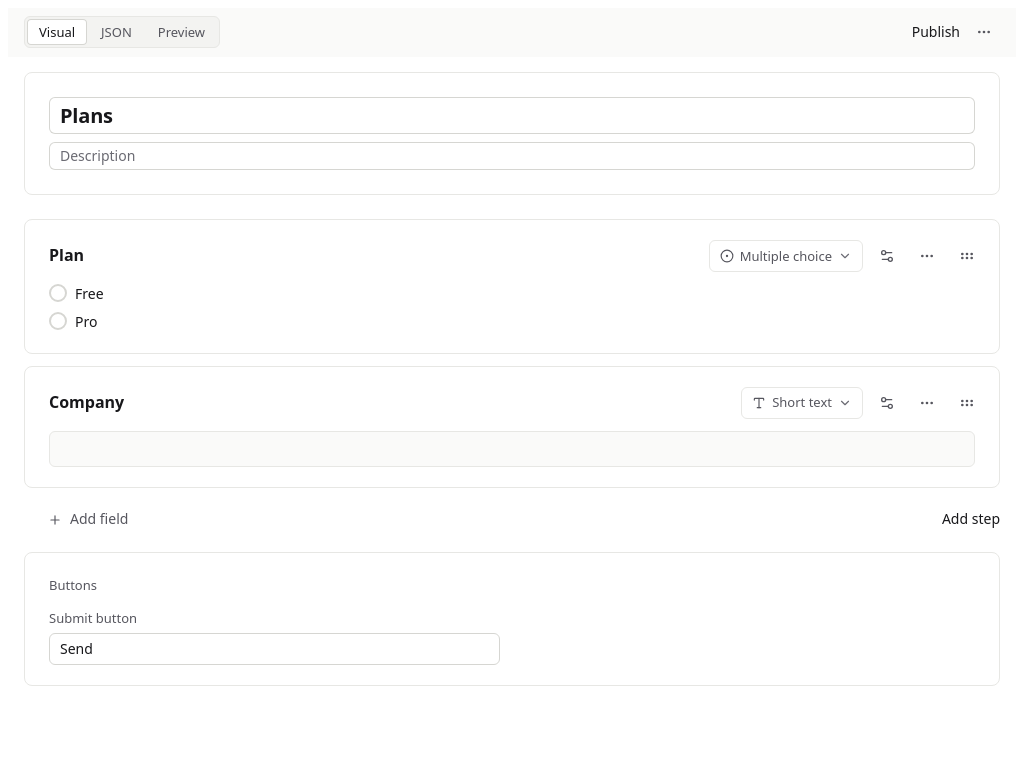
Scenario: field logic in a browser › shows a field only for some answers and labels the card
Click the 2nd button named "Field settings" at coordinates (887, 403), box [871,387,903,419]
(page scrolled)
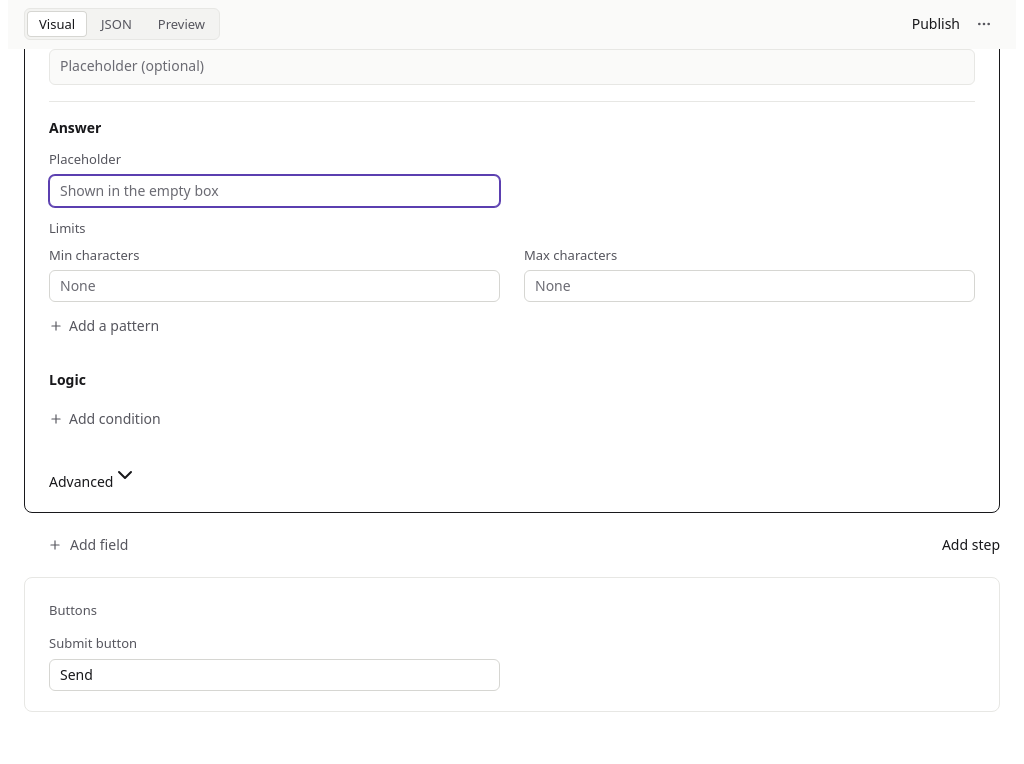
Click the button "Add condition" at coordinates (115, 418), box [37,403,975,435]
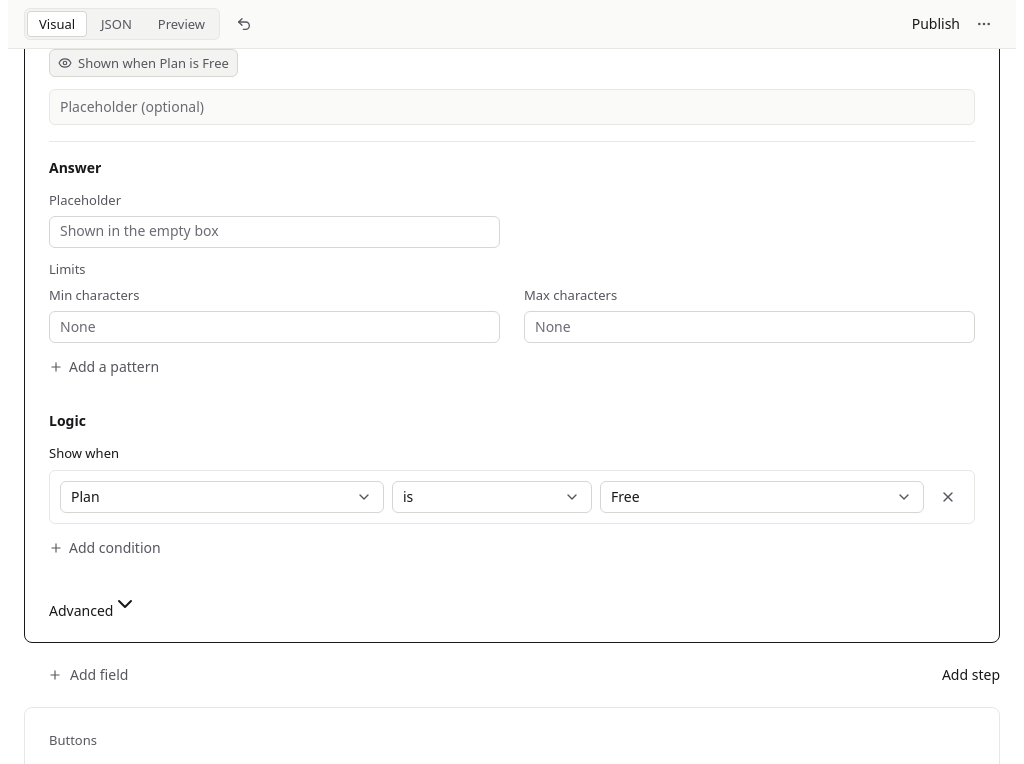
Select "Pro" in the dropdown named "Value" at coordinates (762, 497), box [600,481,924,513]
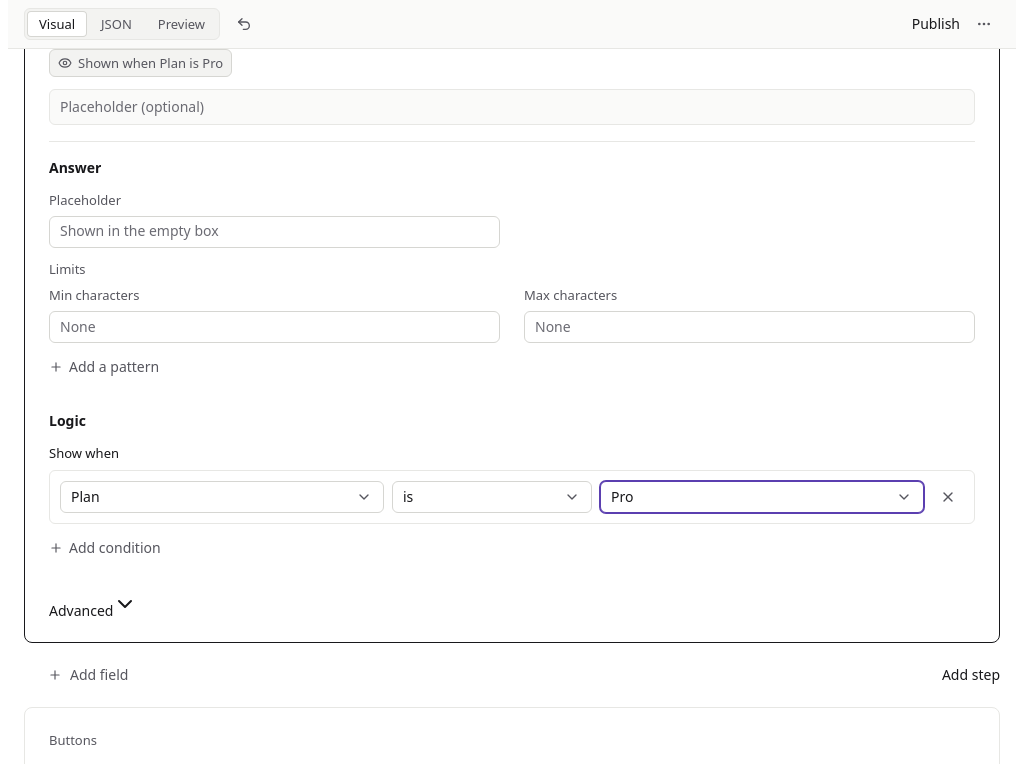
expect the button "Shown when Plan is Pro" is shown: met, box [49,49,232,77]
